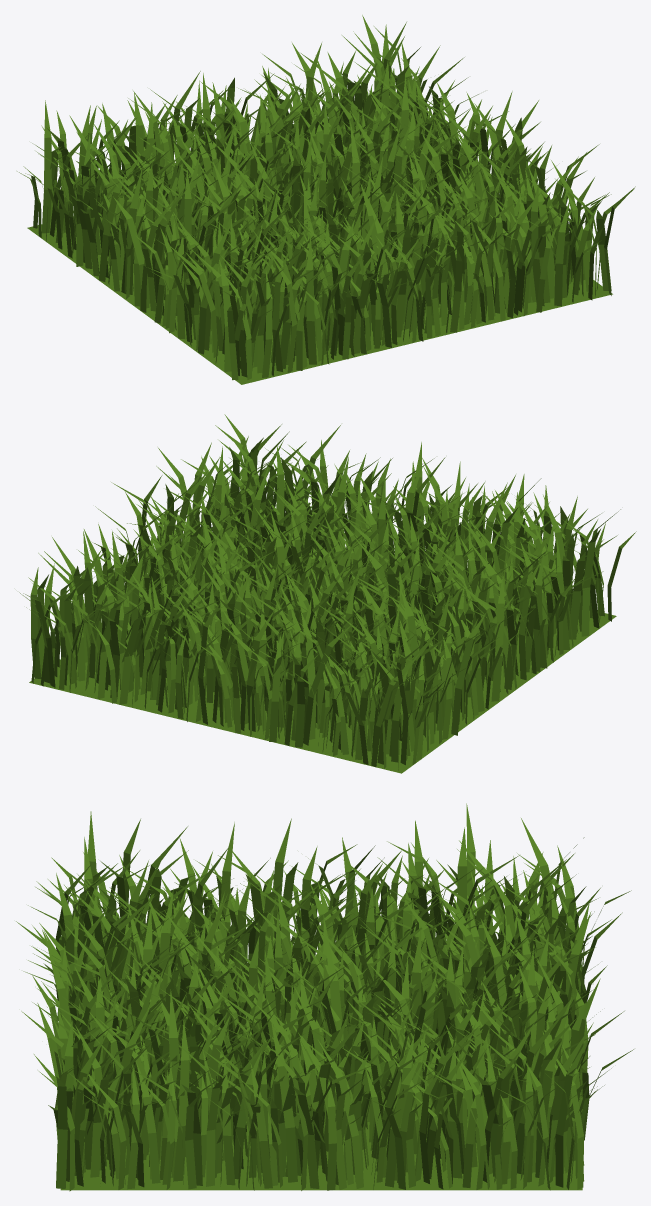
Rendered from 绿化草坪.FBX.
3 renders of one model, top to bottom at view 1: azimuth 30°, elevation 25°; view 2: azimuth 150°, elevation 25°; view 3: azimuth 270°, elevation 25°, orthographic. The views are drawn at different scales.
Parts seen in each view (by area): view 1: 3D学院 模型无限; view 2: 3D学院 模型无限; view 3: 3D学院 模型无限.
Part boxes in pixels (x1,y1,x2,y2): 3D学院 模型无限: (17,15,635,384); 3D学院 模型无限: (19,414,636,773); 3D学院 模型无限: (16,803,633,1191).
Size of the model in its own units: 1.2 by 0.3271 by 1.19.
